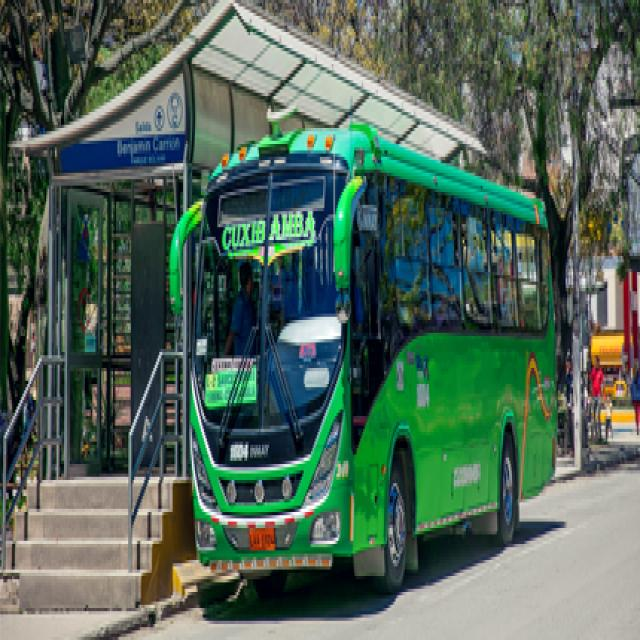BUS: (175, 125, 559, 596)
